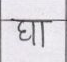aa_matra: (42, 23, 44, 46)
